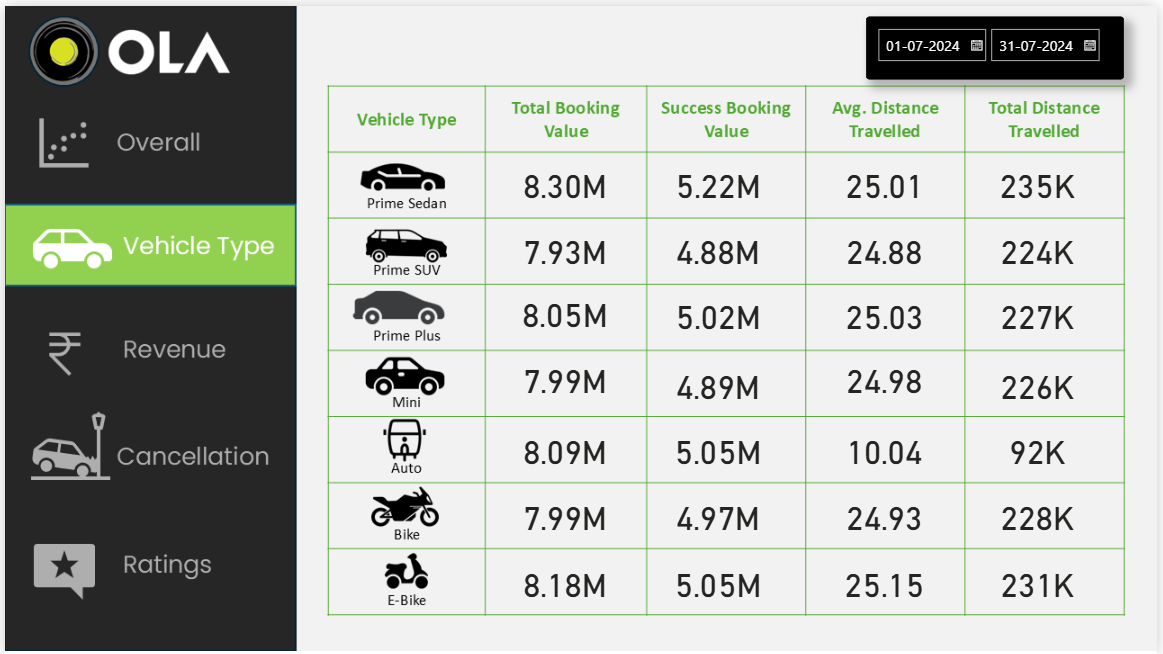

Layout of this report page (visuals, bound fields, positions):
{"tool":"powerbi","page":{"name":"Vehicle Type","canvas":[1280,720],"ordinal":1},"visuals":[{"type":"actionButton","box":[0,448.7,325,90.6],"z":0},{"type":"actionButton","box":[0,107.9,325,90.6],"z":1000},{"type":"actionButton","box":[0,340.8,325,90.6],"z":2000},{"type":"actionButton","box":[0,578.1,325,90.6],"z":3000},{"type":"card","fields":{"Values":["Sum(Bookings.Booking_Value)"]},"box":[536.7,170,170,55],"z":4000},{"type":"card","fields":{"Values":["Sum(Bookings.Booking_Value)"]},"box":[536.7,313.3,170,55],"z":5000},{"type":"card","fields":{"Values":["Sum(Bookings.Booking_Value)"]},"box":[536.7,386.7,170,55],"z":6000},{"type":"card","fields":{"Values":["Sum(Bookings.Booking_Value)"]},"box":[536.7,465,170,55],"z":7000},{"type":"card","fields":{"Values":["Sum(Bookings.Booking_Value)"]},"box":[536.7,538.3,170,55],"z":8000},{"type":"card","fields":{"Values":["Sum(Bookings.Booking_Value)"]},"box":[536.7,613.3,170,55],"z":9000},{"type":"card","fields":{"Values":["Sum(Bookings.Booking_Value)"]},"box":[536.7,243.3,170,55],"z":10000},{"type":"card","fields":{"Values":["Sum(Bookings.Booking_Value)"]},"box":[706.7,170,170,55],"z":11000},{"type":"card","fields":{"Values":["Sum(Bookings.Booking_Value)"]},"box":[706.7,243.3,170,55],"z":12000},{"type":"card","fields":{"Values":["Sum(Bookings.Booking_Value)"]},"box":[706.7,315,170,55],"z":13000},{"type":"card","fields":{"Values":["Sum(Bookings.Booking_Value)"]},"box":[706.7,393.3,170,55],"z":14000},{"type":"card","fields":{"Values":["Sum(Bookings.Booking_Value)"]},"box":[706.7,465,170,55],"z":15000},{"type":"card","fields":{"Values":["Sum(Bookings.Booking_Value)"]},"box":[706.7,538.3,170,55],"z":16000},{"type":"card","fields":{"Values":["Sum(Bookings.Booking_Value)"]},"box":[706.7,613.3,170,55],"z":17000},{"type":"card","fields":{"Values":["Avg(Bookings.Ride_Distance)"]},"box":[891.7,170,170,55],"z":18000},{"type":"card","fields":{"Values":["Avg(Bookings.Ride_Distance)"]},"box":[891.7,243.3,170,55],"z":19000},{"type":"card","fields":{"Values":["Avg(Bookings.Ride_Distance)"]},"box":[891.7,315,170,55],"z":20000},{"type":"card","fields":{"Values":["Avg(Bookings.Ride_Distance)"]},"box":[891.7,386.7,170,55],"z":21000},{"type":"card","fields":{"Values":["Avg(Bookings.Ride_Distance)"]},"box":[891.7,465,170,55],"z":22000},{"type":"card","fields":{"Values":["Avg(Bookings.Ride_Distance)"]},"box":[891.7,538.3,170,55],"z":23000},{"type":"card","fields":{"Values":["Avg(Bookings.Ride_Distance)"]},"box":[891.7,613.3,170,55],"z":24000},{"type":"card","fields":{"Values":["Sum(Bookings.Ride_Distance)"]},"box":[1061.7,170,170,55],"z":25000},{"type":"card","fields":{"Values":["Sum(Bookings.Ride_Distance)"]},"box":[1061.7,243.3,170,55],"z":26000},{"type":"card","fields":{"Values":["Sum(Bookings.Ride_Distance)"]},"box":[1061.7,315,170,55],"z":27000},{"type":"card","fields":{"Values":["Sum(Bookings.Ride_Distance)"]},"box":[1061.7,393.3,170,55],"z":28000},{"type":"card","fields":{"Values":["Sum(Bookings.Ride_Distance)"]},"box":[1061.7,465,170,55],"z":29000},{"type":"card","fields":{"Values":["Sum(Bookings.Ride_Distance)"]},"box":[1061.7,538.3,170,55],"z":30000},{"type":"card","fields":{"Values":["Sum(Bookings.Ride_Distance)"]},"box":[1061.7,613.3,170,55],"z":31000},{"type":"slicer","title":"Date","fields":{"Values":["Bookings.Date"]},"box":[956.7,11.7,286.7,70],"z":32000}]}

Visuals, with their boxes in screenshot pixels (x1, y1, x2, y2), scaled from the page's 1280x720 canvas onto the 1163x654 screenshot:
actionButton: (left=0, top=408, right=295, bottom=490)
actionButton: (left=0, top=98, right=295, bottom=180)
actionButton: (left=0, top=310, right=295, bottom=392)
actionButton: (left=0, top=525, right=295, bottom=607)
card - Sum(Bookings.Booking_Value): (left=488, top=154, right=642, bottom=204)
card - Sum(Bookings.Booking_Value): (left=488, top=285, right=642, bottom=335)
card - Sum(Bookings.Booking_Value): (left=488, top=351, right=642, bottom=401)
card - Sum(Bookings.Booking_Value): (left=488, top=422, right=642, bottom=472)
card - Sum(Bookings.Booking_Value): (left=488, top=489, right=642, bottom=539)
card - Sum(Bookings.Booking_Value): (left=488, top=557, right=642, bottom=607)
card - Sum(Bookings.Booking_Value): (left=488, top=221, right=642, bottom=271)
card - Sum(Bookings.Booking_Value): (left=642, top=154, right=797, bottom=204)
card - Sum(Bookings.Booking_Value): (left=642, top=221, right=797, bottom=271)
card - Sum(Bookings.Booking_Value): (left=642, top=286, right=797, bottom=336)
card - Sum(Bookings.Booking_Value): (left=642, top=357, right=797, bottom=407)
card - Sum(Bookings.Booking_Value): (left=642, top=422, right=797, bottom=472)
card - Sum(Bookings.Booking_Value): (left=642, top=489, right=797, bottom=539)
card - Sum(Bookings.Booking_Value): (left=642, top=557, right=797, bottom=607)
card - Avg(Bookings.Ride_Distance): (left=810, top=154, right=965, bottom=204)
card - Avg(Bookings.Ride_Distance): (left=810, top=221, right=965, bottom=271)
card - Avg(Bookings.Ride_Distance): (left=810, top=286, right=965, bottom=336)
card - Avg(Bookings.Ride_Distance): (left=810, top=351, right=965, bottom=401)
card - Avg(Bookings.Ride_Distance): (left=810, top=422, right=965, bottom=472)
card - Avg(Bookings.Ride_Distance): (left=810, top=489, right=965, bottom=539)
card - Avg(Bookings.Ride_Distance): (left=810, top=557, right=965, bottom=607)
card - Sum(Bookings.Ride_Distance): (left=965, top=154, right=1119, bottom=204)
card - Sum(Bookings.Ride_Distance): (left=965, top=221, right=1119, bottom=271)
card - Sum(Bookings.Ride_Distance): (left=965, top=286, right=1119, bottom=336)
card - Sum(Bookings.Ride_Distance): (left=965, top=357, right=1119, bottom=407)
card - Sum(Bookings.Ride_Distance): (left=965, top=422, right=1119, bottom=472)
card - Sum(Bookings.Ride_Distance): (left=965, top=489, right=1119, bottom=539)
card - Sum(Bookings.Ride_Distance): (left=965, top=557, right=1119, bottom=607)
"Date" slicer: (left=869, top=11, right=1130, bottom=74)
